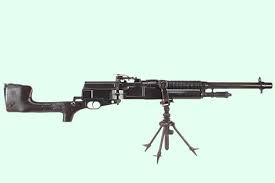Arma Real: (3, 73, 272, 161)
